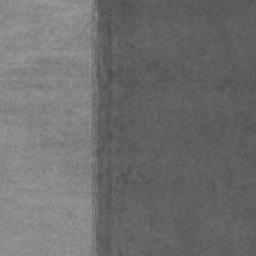Welding line: (90, 0, 101, 256)
